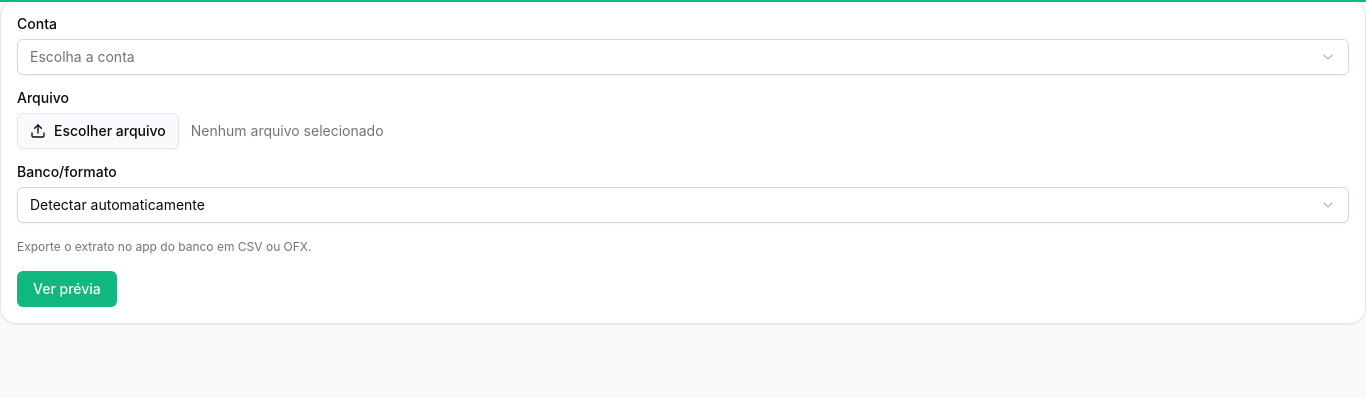
Test: ImportUploadCard › valida conta e arquivo antes de enviar
Click the button "Ver prévia": (67, 289) [17,271,117,307]
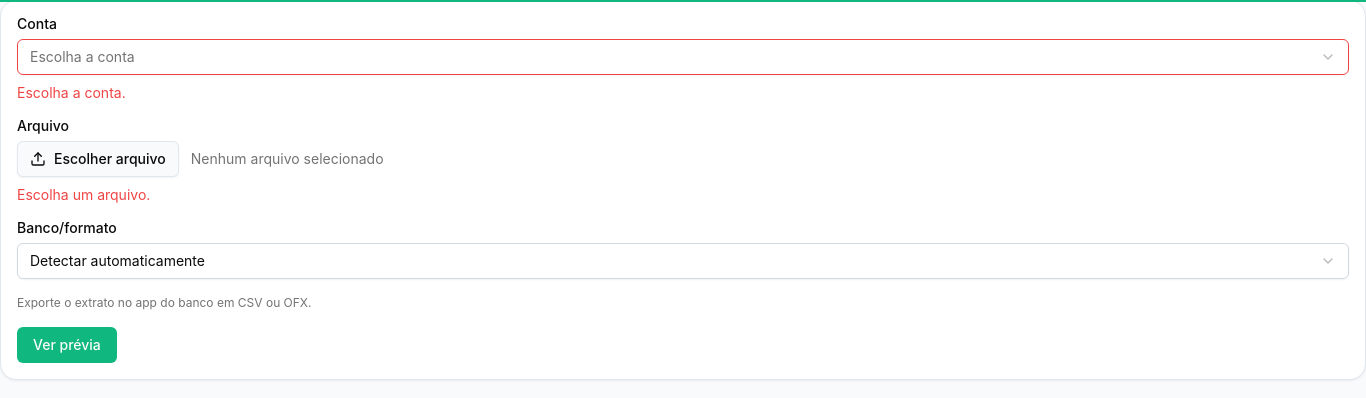
Check: the text "Escolha a conta." is shown, box [17,84,126,101]
Check: the text "Escolha um arquivo." is shown, box [17,186,150,203]
